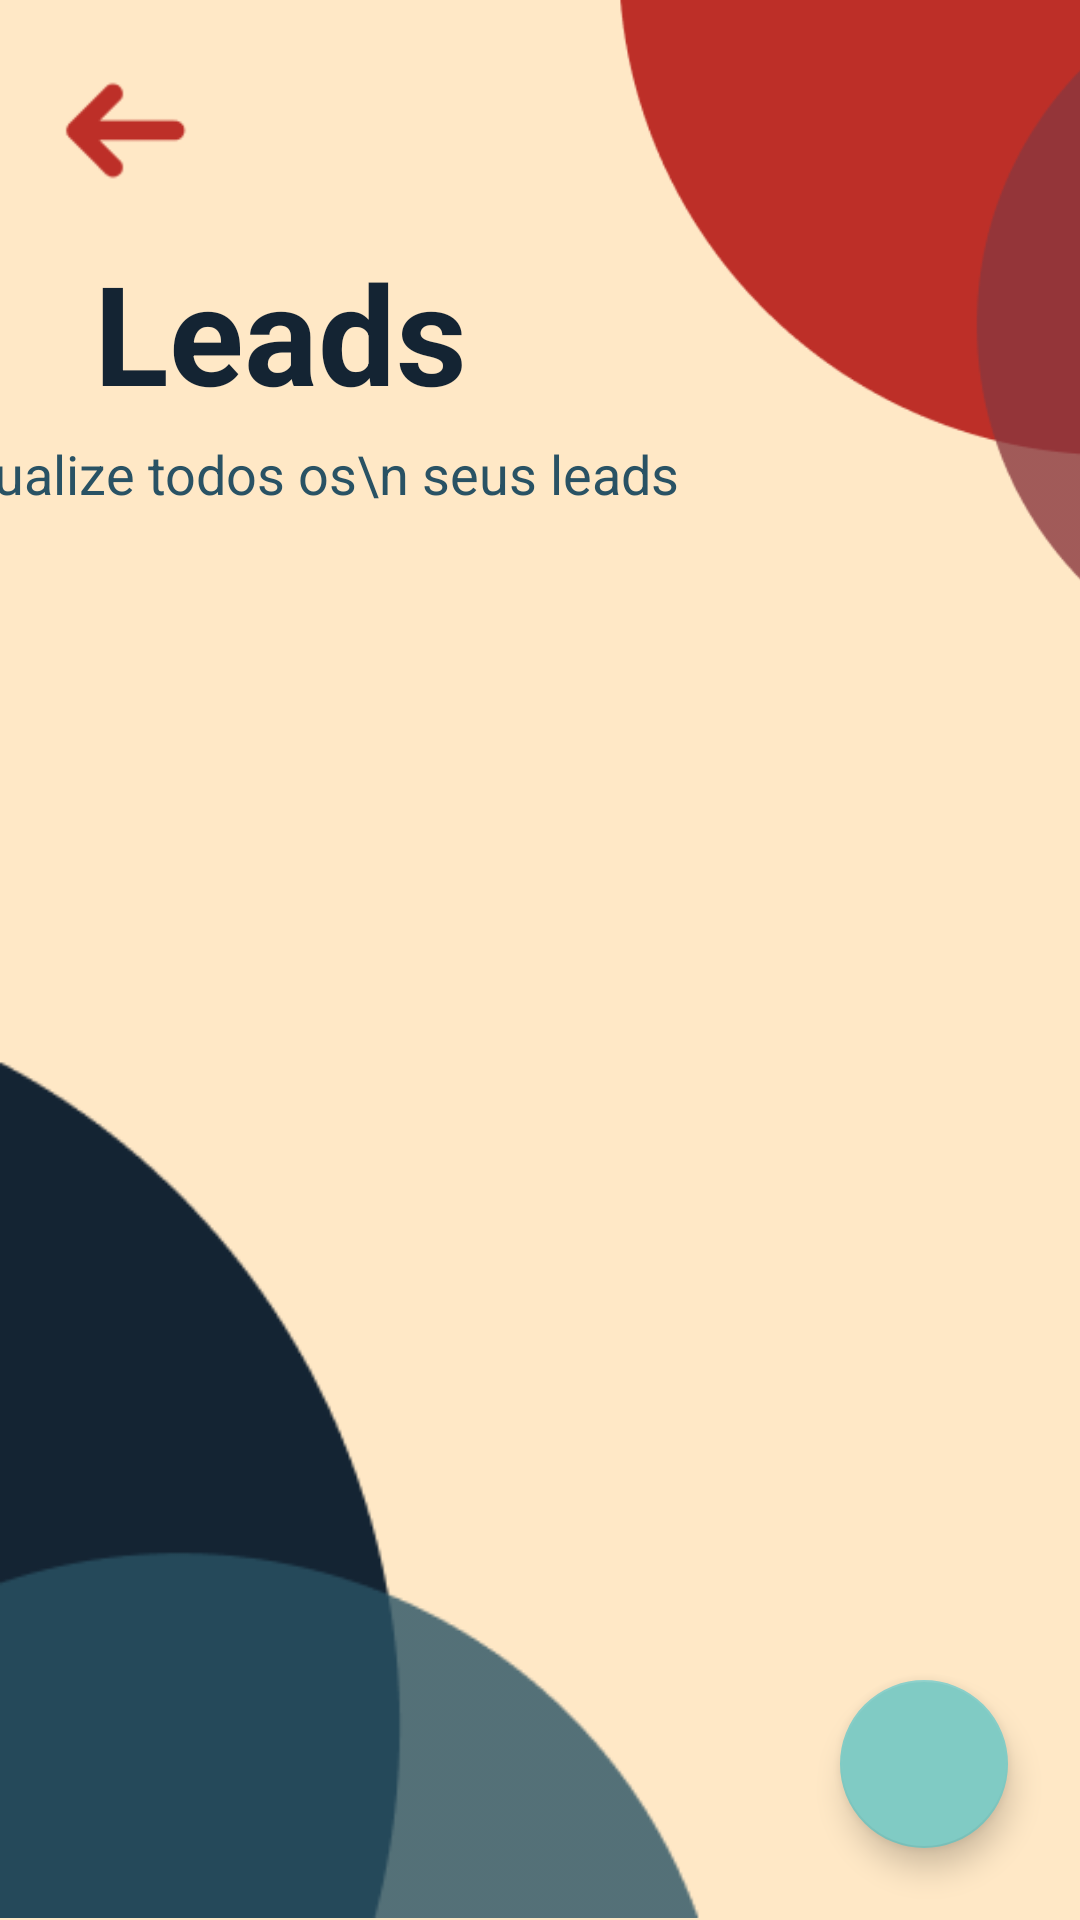

Screen size 1080px x 1920px. Icon name, then its center in pixels as point (x, y):
arrow: point (126, 130)
